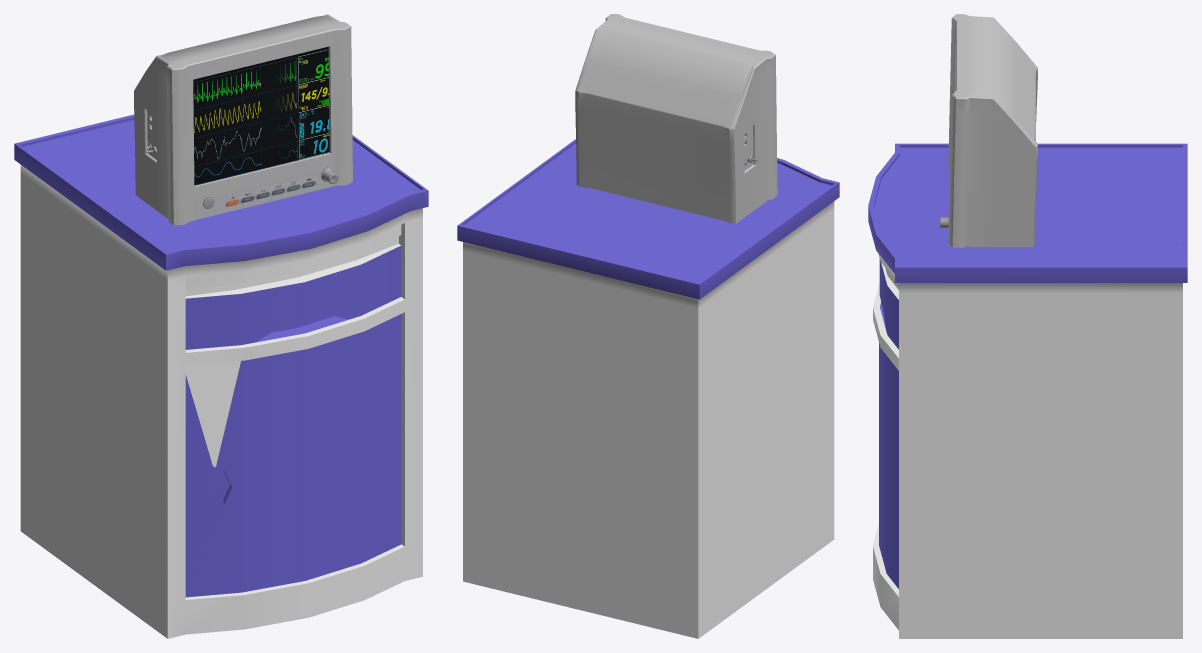
Rendered from Monitor-Fixed.fbx.
3 views of the same model, side by side, from view 1: azimuth 30°, elevation 25°; view 2: azimuth 150°, elevation 25°; view 3: azimuth 270°, elevation 25° (orthographic). The views are drawn at different scales.
Parts seen in each view (by area): view 1: pCube7, pCylinder36; view 2: pCube7, pCylinder36; view 3: pCube7, pCylinder36.
Boxes of the visible parts, x1,y1,x2,y2 form: pCube7: (14, 114, 428, 638); pCylinder36: (134, 14, 352, 225); pCube7: (457, 139, 839, 638); pCylinder36: (575, 14, 777, 223); pCube7: (868, 143, 1187, 638); pCylinder36: (940, 14, 1037, 247).
Bounding box in the file's own units: 2.04 × 4.01 × 2.23.
Materials: 2 (2 with a texture image).
